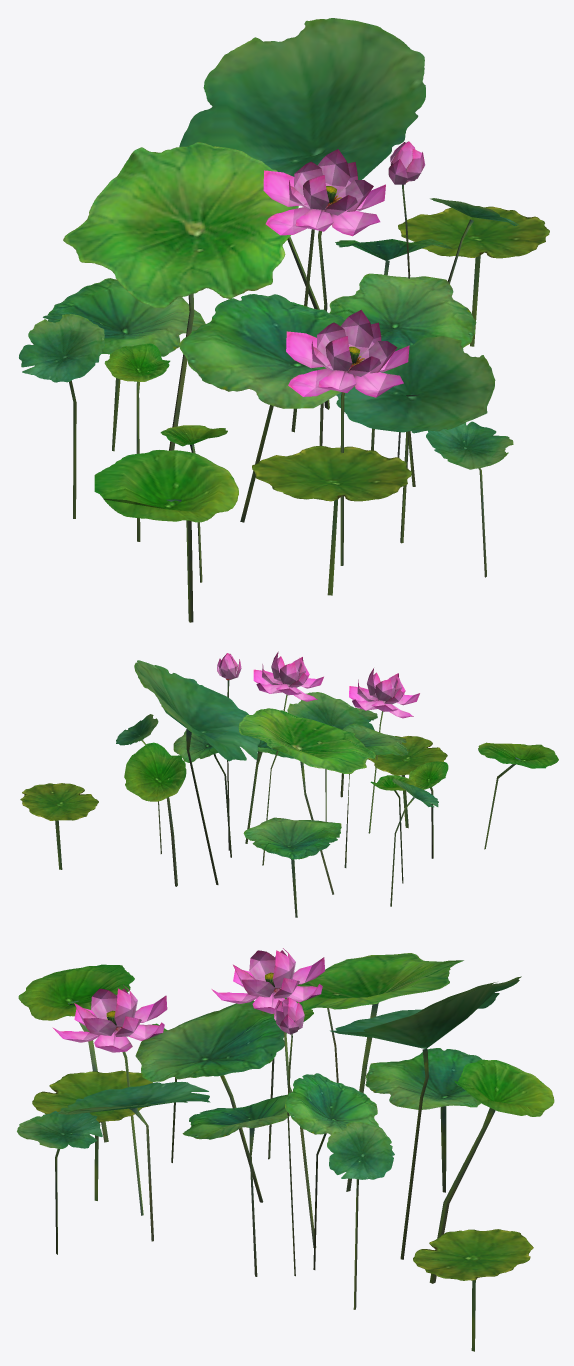
The model's file is Hangzhou_wj_021_1.FBX.
The picture shows the model from 3 angles, top to bottom: view 1: azimuth 30°, elevation 25°; view 2: azimuth 150°, elevation 25°; view 3: azimuth 270°, elevation 25°; orthographic projection. The views are drawn at different scales.
Parts seen in each view (by area): view 1: Object003; view 2: Object003; view 3: Object003.
Part boxes in pixels (x1,y1,x2,y2): Object003: (19,18,549,622); Object003: (20,651,558,917); Object003: (17,948,554,1351).
Size of the model in its own units: 531 by 276 by 432.
Materials: 1 (1 with a texture image).
